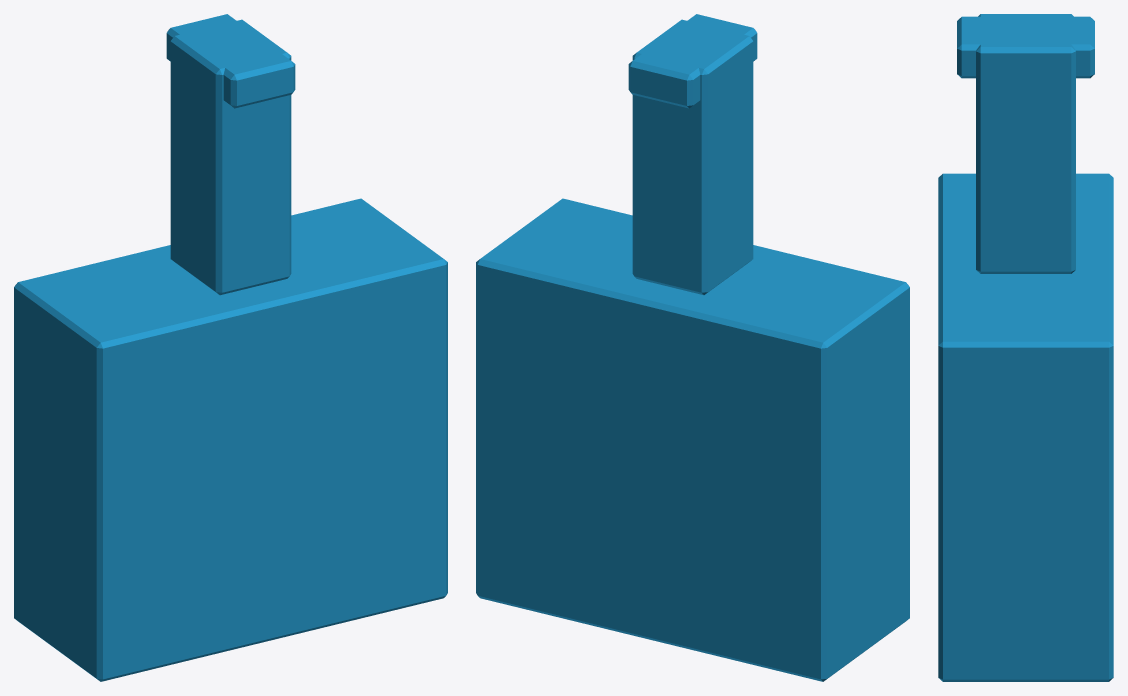
Rendered from hanging-carrier-placeholder.glb.
3 renders of one model, left to right at view 1: azimuth 30°, elevation 25°; view 2: azimuth 150°, elevation 25°; view 3: azimuth 270°, elevation 25°, orthographic.
Visible parts, largest first — view 1: QUANTUM_Hanging_Carrier_Placeholder; view 2: QUANTUM_Hanging_Carrier_Placeholder; view 3: QUANTUM_Hanging_Carrier_Placeholder.
Boxes of the visible parts, left/top/right/bottom form: QUANTUM_Hanging_Carrier_Placeholder: left=14, top=14, right=447, bottom=681; QUANTUM_Hanging_Carrier_Placeholder: left=476, top=14, right=909, bottom=681; QUANTUM_Hanging_Carrier_Placeholder: left=938, top=14, right=1113, bottom=681.
Bounding box in the file's own units: 1.3 × 2 × 0.56.
